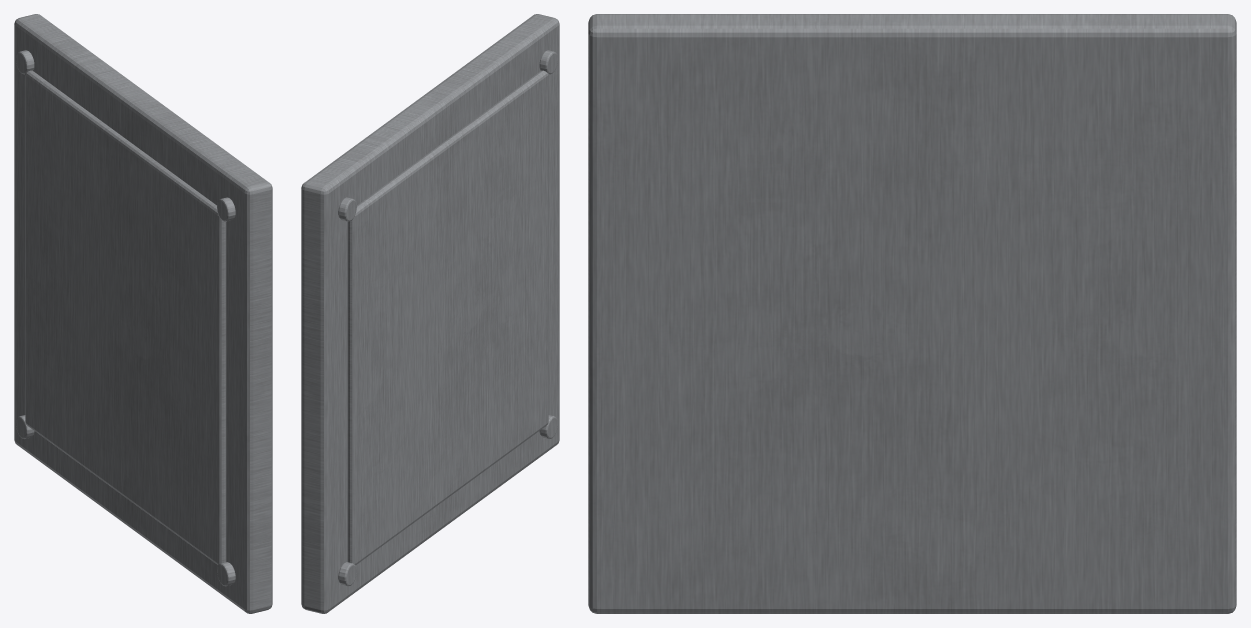
The model's file is lever_plate_vis.obj.
The picture shows the model from 3 angles, left to right: view 1: azimuth 30°, elevation 25°; view 2: azimuth 150°, elevation 25°; view 3: azimuth 270°, elevation 25°; orthographic projection. The views are drawn at different scales.
Bounding box in the file's own units: 0.026 × 0.3 × 0.3.
Materials: 1 (1 with a texture image).
